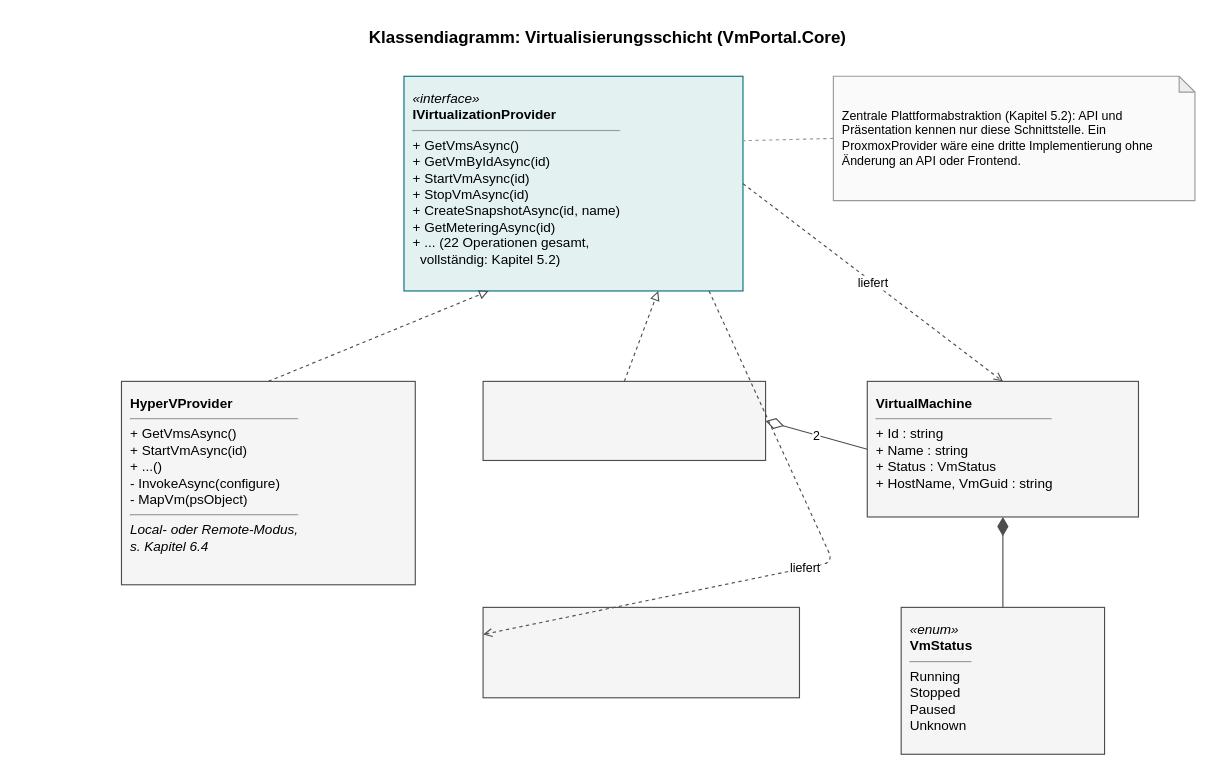
Some shapes in this 1215 by 774 pixel diagram are drawn without their labels. Each missing label, with the box of its shape:
DummyVirtualizationProvider - _vms : List<VirtualMachine>: (482, 380, 766, 460)
«record» VmMeteringData + AvgCpu, AvgRam, TotalDisk : string: (482, 606, 799, 698)
